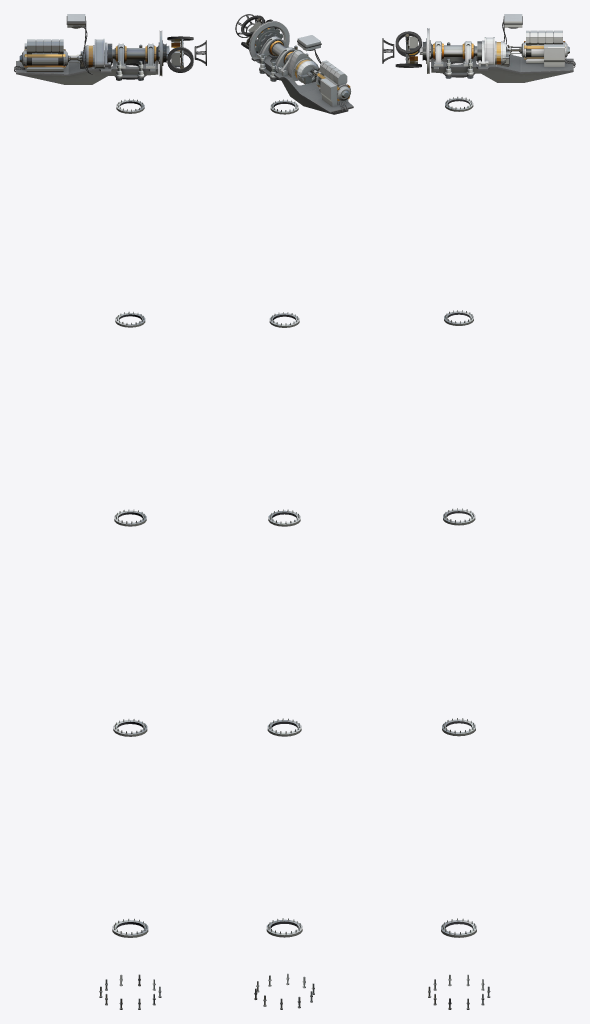
The model's file is shuangkui_neibumoxing.glb.
The picture shows the model from 3 angles, left to right: view 1: azimuth 90°, elevation 25°; view 2: azimuth 210°, elevation 25°; view 3: azimuth 270°, elevation 25°; orthographic projection.
Parts seen in each view (by area): view 1: neibumoxing_chuandonglian, neibumoxing_jicangdizuo, neibumoxing_bianjiangxitong; view 2: neibumoxing_chuandonglian, neibumoxing_jicangdizuo, neibumoxing_bianjiangxitong, neibumoxing_bianjiangxitongzhou, neibumoxing_luoshuan5, neibumoxing_luoshuan4, neibumoxing_maoshuan, neibumoxing_luoshuan3; view 3: neibumoxing_chuandonglian, neibumoxing_jicangdizuo, neibumoxing_bianjiangxitong.
Boxes of the visible parts, box(x1,y1,x2,y2) form: neibumoxing_chuandonglian: box(14, 14, 158, 74); neibumoxing_jicangdizuo: box(16, 54, 158, 84); neibumoxing_bianjiangxitong: box(158, 36, 206, 72); neibumoxing_chuandonglian: box(257, 35, 351, 112); neibumoxing_jicangdizuo: box(251, 55, 353, 114); neibumoxing_bianjiangxitong: box(235, 14, 283, 53); neibumoxing_bianjiangxitongzhou: box(249, 21, 289, 63); neibumoxing_luoshuan5: box(266, 918, 302, 937); neibumoxing_luoshuan4: box(267, 718, 301, 736); neibumoxing_maoshuan: box(254, 973, 314, 1009); neibumoxing_luoshuan3: box(268, 509, 300, 526); neibumoxing_chuandonglian: box(431, 14, 575, 67); neibumoxing_jicangdizuo: box(431, 54, 573, 82); neibumoxing_bianjiangxitong: box(382, 31, 430, 67).
Size of the model in its own units: 527 by 9610 by 1716.
Materials: 1 (1 with a texture image).
